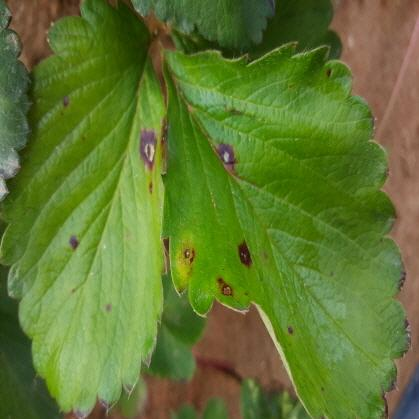Leaf Spot: (159, 40, 414, 418), (0, 0, 167, 418)
